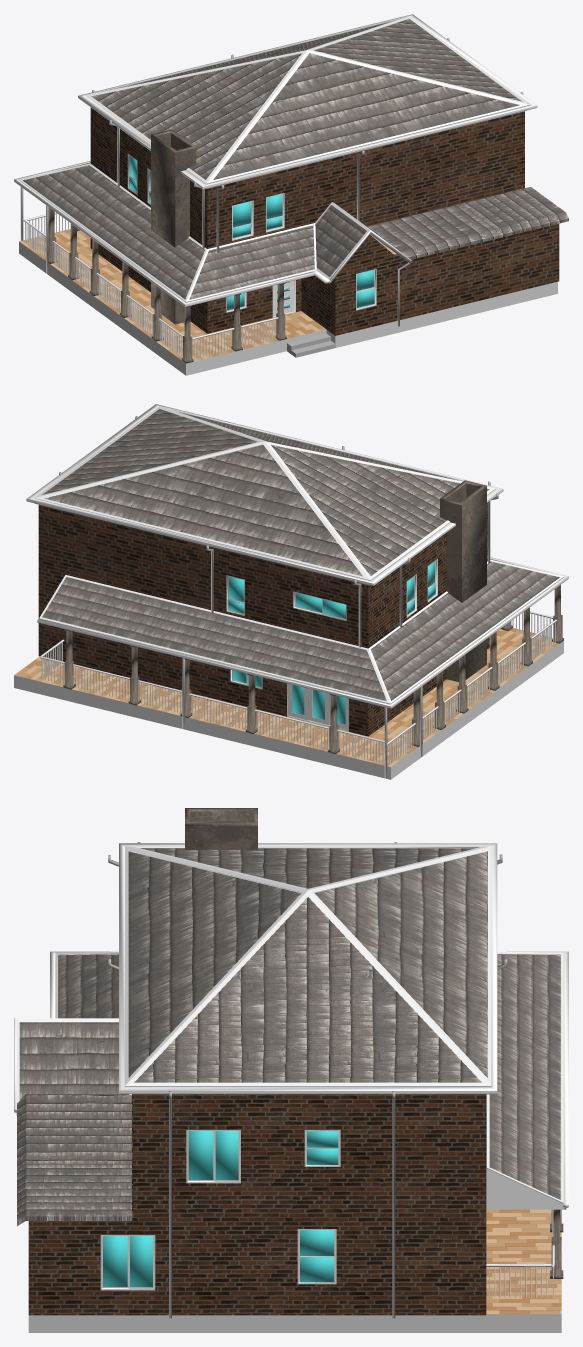
Rendered from mom home.fbx.
The picture shows the model from 3 angles, top to bottom: view 1: azimuth 30°, elevation 25°; view 2: azimuth 150°, elevation 25°; view 3: azimuth 270°, elevation 25°; orthographic projection. The views are drawn at different scales.
Visible parts, largest first — view 1: uploads_files_593643_247_House+15_obj.004, uploads_files_593643_247_House+15_obj, uploads_files_593643_247_House+15_obj.015, uploads_files_593643_247_House+15_obj.009, uploads_files_593643_247_House+15_obj.103, uploads_files_593643_247_House+15_obj.001, uploads_files_593643_247_House+15_obj.102, uploads_files_593643_247_House+15_obj.008, uploads_files_593643_247_House+15_obj.030, uploads_files_593643_247_House+15_obj.095, uploads_files_593643_247_House+15_obj.002, uploads_files_593643_247_House+15_obj.231 (+15 smaller); view 2: uploads_files_593643_247_House+15_obj.004, uploads_files_593643_247_House+15_obj.035, uploads_files_593643_247_House+15_obj.009, uploads_files_593643_247_House+15_obj.101, uploads_files_593643_247_House+15_obj.103, uploads_files_593643_247_House+15_obj.031, uploads_files_593643_247_House+15_obj.001, uploads_files_593643_247_House+15_obj.008, uploads_files_593643_247_House+15_obj.002, uploads_files_593643_247_House+15_obj.095, uploads_files_593643_247_House+15_obj.099, uploads_files_593643_247_House+15_obj.037 (+16 smaller); view 3: uploads_files_593643_247_House+15_obj.004, uploads_files_593643_247_House+15_obj.007, uploads_files_593643_247_House+15_obj.006, uploads_files_593643_247_House+15_obj.009, uploads_files_593643_247_House+15_obj.101, uploads_files_593643_247_House+15_obj.001, uploads_files_593643_247_House+15_obj.030, uploads_files_593643_247_House+15_obj.002, uploads_files_593643_247_House+15_obj.096, uploads_files_593643_247_House+15_obj.231, uploads_files_593643_247_House+15_obj.102, uploads_files_593643_247_House+15_obj.008 (+15 smaller).
Boxes of the visible parts, bbox=[...] form: uploads_files_593643_247_House+15_obj.004: bbox=[92, 19, 520, 179]; uploads_files_593643_247_House+15_obj: bbox=[207, 111, 524, 248]; uploads_files_593643_247_House+15_obj.015: bbox=[207, 223, 558, 335]; uploads_files_593643_247_House+15_obj.009: bbox=[19, 229, 557, 375]; uploads_files_593643_247_House+15_obj.103: bbox=[23, 165, 204, 299]; uploads_files_593643_247_House+15_obj.001: bbox=[85, 16, 529, 184]; uploads_files_593643_247_House+15_obj.102: bbox=[189, 225, 314, 299]; uploads_files_593643_247_House+15_obj.008: bbox=[151, 129, 196, 324]; uploads_files_593643_247_House+15_obj.030: bbox=[367, 204, 498, 261]; uploads_files_593643_247_House+15_obj.095: bbox=[90, 107, 207, 248]; uploads_files_593643_247_House+15_obj.002: bbox=[78, 14, 537, 189]; uploads_files_593643_247_House+15_obj.231: bbox=[461, 187, 568, 237]; uploads_files_593643_247_House+15_obj.004: bbox=[43, 409, 488, 576]; uploads_files_593643_247_House+15_obj.035: bbox=[38, 505, 368, 648]; uploads_files_593643_247_House+15_obj.009: bbox=[14, 628, 563, 779]; uploads_files_593643_247_House+15_obj.101: bbox=[42, 577, 386, 701]; uploads_files_593643_247_House+15_obj.103: bbox=[371, 562, 559, 700]; uploads_files_593643_247_House+15_obj.031: bbox=[38, 588, 368, 736]; uploads_files_593643_247_House+15_obj.001: bbox=[34, 406, 495, 580]; uploads_files_593643_247_House+15_obj.008: bbox=[440, 480, 486, 682]; uploads_files_593643_247_House+15_obj.002: bbox=[26, 404, 503, 585]; uploads_files_593643_247_House+15_obj.095: bbox=[368, 503, 487, 648]; uploads_files_593643_247_House+15_obj.099: bbox=[37, 557, 568, 708]; uploads_files_593643_247_House+15_obj.037: bbox=[39, 575, 389, 703]; uploads_files_593643_247_House+15_obj.004: bbox=[128, 848, 487, 1082]; uploads_files_593643_247_House+15_obj.007: bbox=[28, 1216, 486, 1315]; uploads_files_593643_247_House+15_obj.006: bbox=[133, 1094, 486, 1216]; uploads_files_593643_247_House+15_obj.009: bbox=[28, 1209, 561, 1332]; uploads_files_593643_247_House+15_obj.101: bbox=[489, 954, 560, 1199]; uploads_files_593643_247_House+15_obj.001: bbox=[125, 846, 491, 1086]; uploads_files_593643_247_House+15_obj.030: bbox=[17, 1094, 131, 1169]; uploads_files_593643_247_House+15_obj.002: bbox=[119, 843, 497, 1094]; uploads_files_593643_247_House+15_obj.096: bbox=[19, 1022, 118, 1099]; uploads_files_593643_247_House+15_obj.231: bbox=[17, 1164, 132, 1226]; uploads_files_593643_247_House+15_obj.102: bbox=[58, 954, 118, 1018]; uploads_files_593643_247_House+15_obj.008: bbox=[185, 808, 257, 849].
Size of the model in its own units: 1459 by 794 by 1226.
